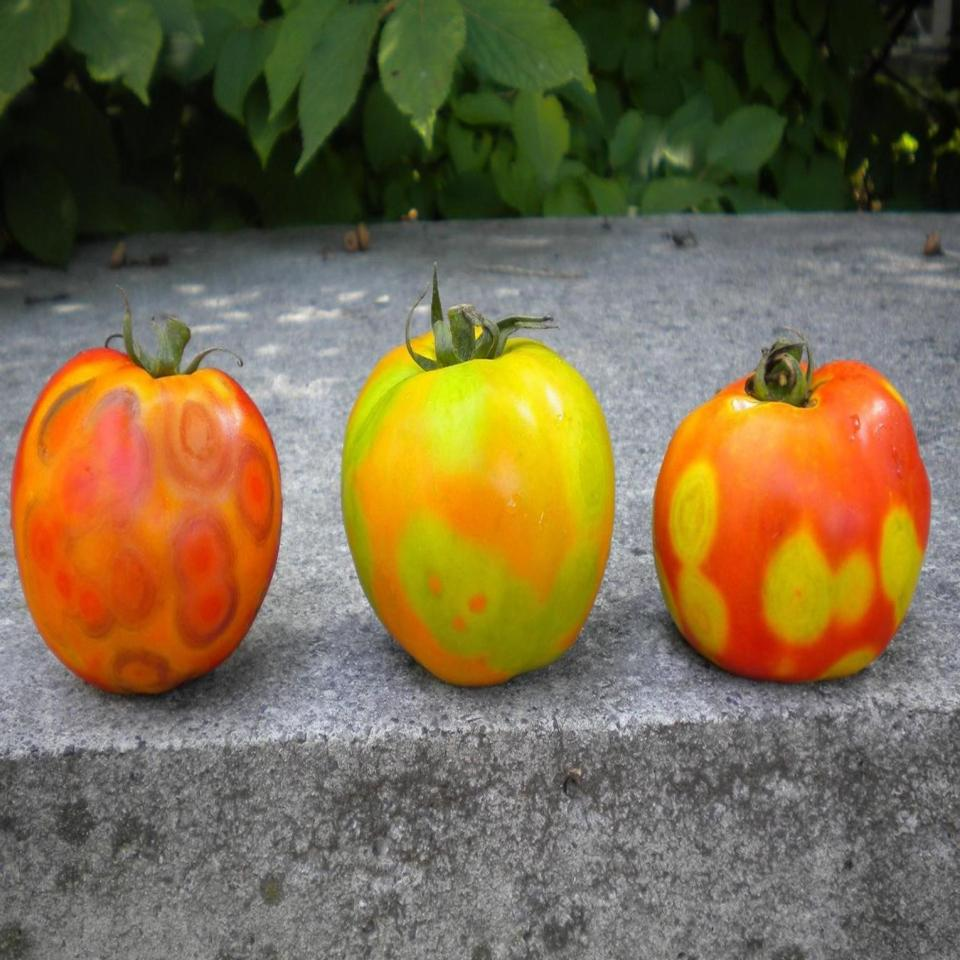Spotted wilt Virus: (338, 312, 616, 688), (11, 346, 284, 696), (653, 361, 931, 681)
